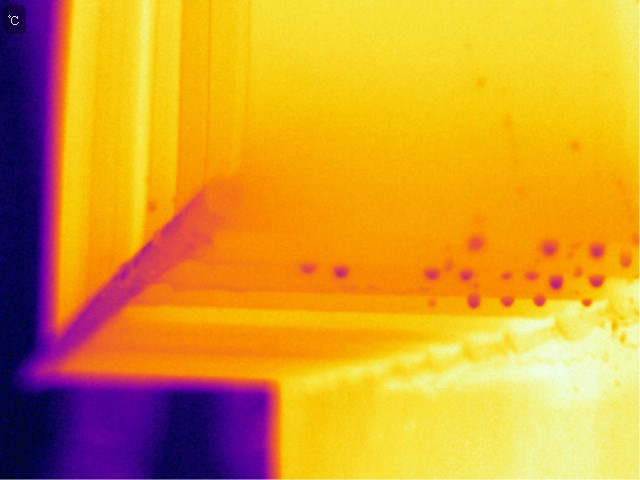Water: (296, 253, 317, 278), (465, 234, 491, 253), (535, 237, 559, 257), (585, 240, 608, 260), (329, 262, 353, 281), (463, 291, 486, 310), (547, 272, 566, 294), (497, 292, 519, 310), (419, 270, 447, 284), (519, 267, 543, 283), (532, 292, 551, 312), (586, 272, 608, 289), (576, 297, 599, 309), (457, 269, 476, 281)
